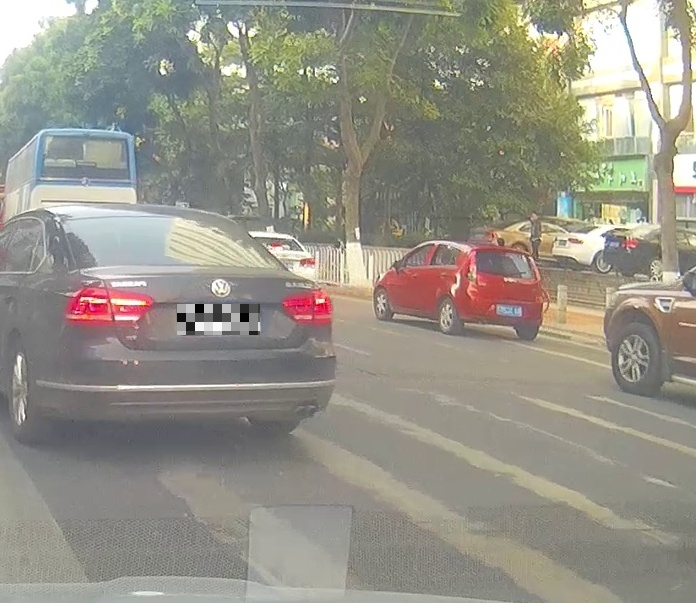L_light: (64, 286, 154, 327), (465, 273, 487, 286)
R_light: (279, 288, 333, 326), (524, 284, 542, 294)
T_light: (153, 218, 184, 224), (499, 250, 512, 256)
day-no: (56, 203, 336, 448), (463, 245, 542, 341)
plate_1: (177, 304, 260, 335)
